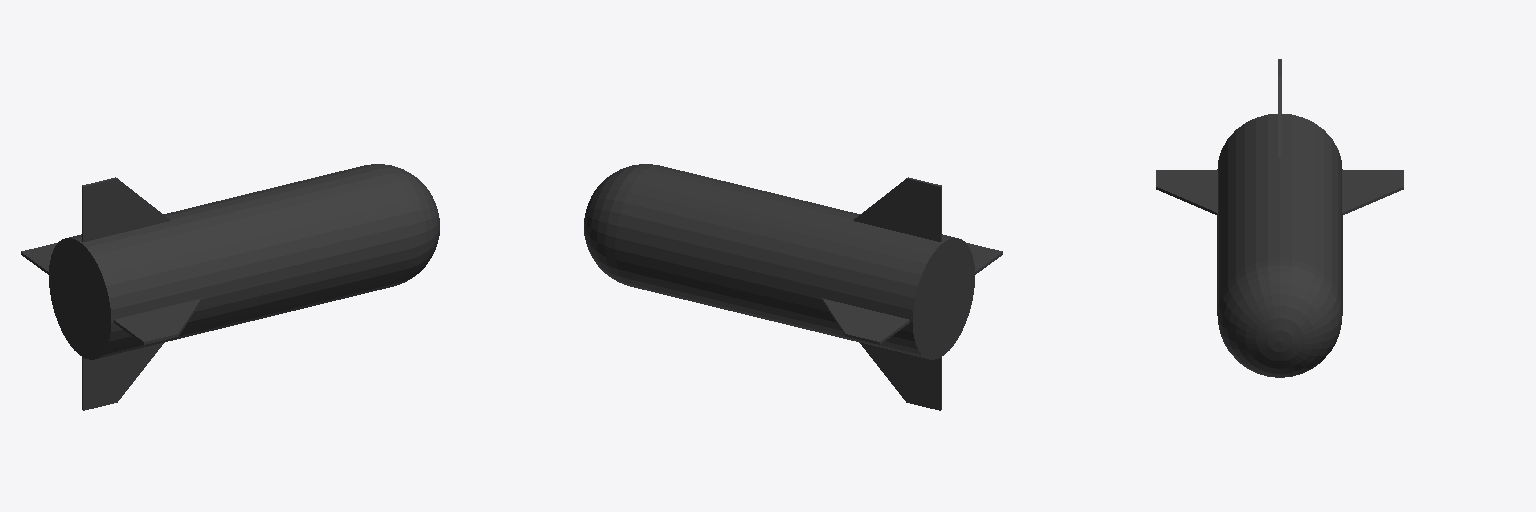
The model's file is missile.obj.
The picture shows the model from 3 angles: view 1: azimuth 30°, elevation 25°; view 2: azimuth 150°, elevation 25°; view 3: azimuth 270°, elevation 25°; orthographic projection.
Size of the model in its own units: 0.6731 by 0.4099 by 0.4099.